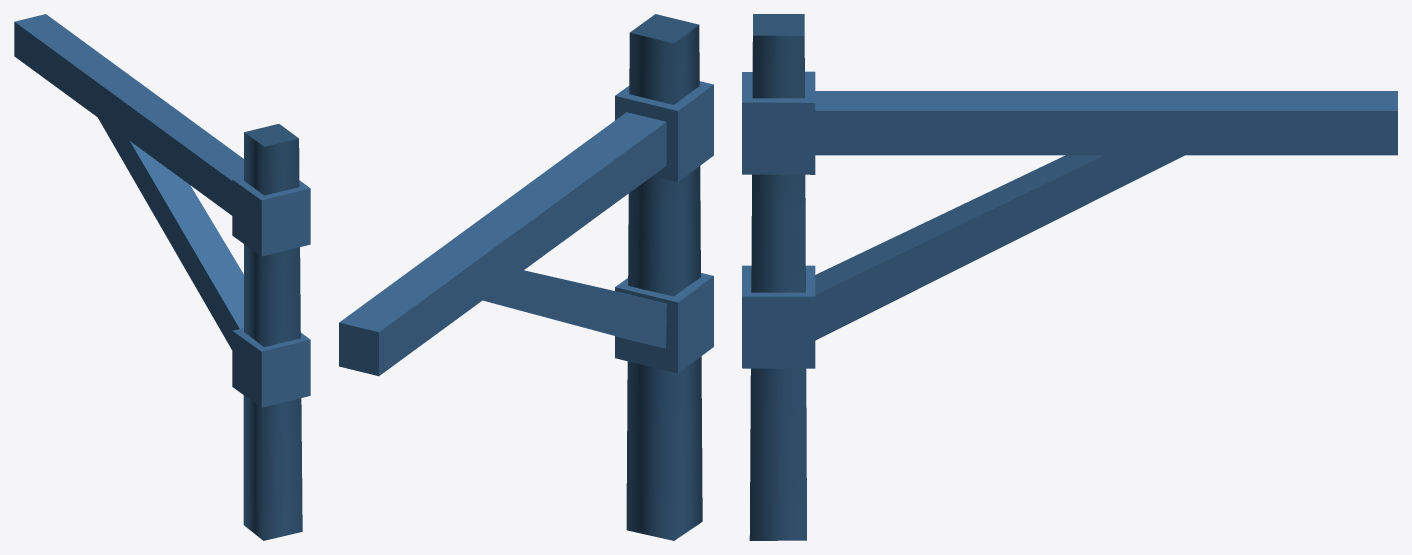
Rendered from SignHolder_4_F.fbx.
The picture shows the model from 3 angles, left to right: view 1: azimuth 30°, elevation 25°; view 2: azimuth 150°, elevation 25°; view 3: azimuth 270°, elevation 25°; orthographic projection. The views are drawn at different scales.
Visible parts, largest first — view 1: SignHolder_4_F; view 2: SignHolder_4_F; view 3: SignHolder_4_F.
Boxes of the visible parts, x1,y1,x2,y2 form: SignHolder_4_F: [14, 14, 310, 540]; SignHolder_4_F: [339, 14, 713, 540]; SignHolder_4_F: [742, 14, 1397, 540].
Bounding box in the file's own units: 7.8 × 58.7 × 69.26.
